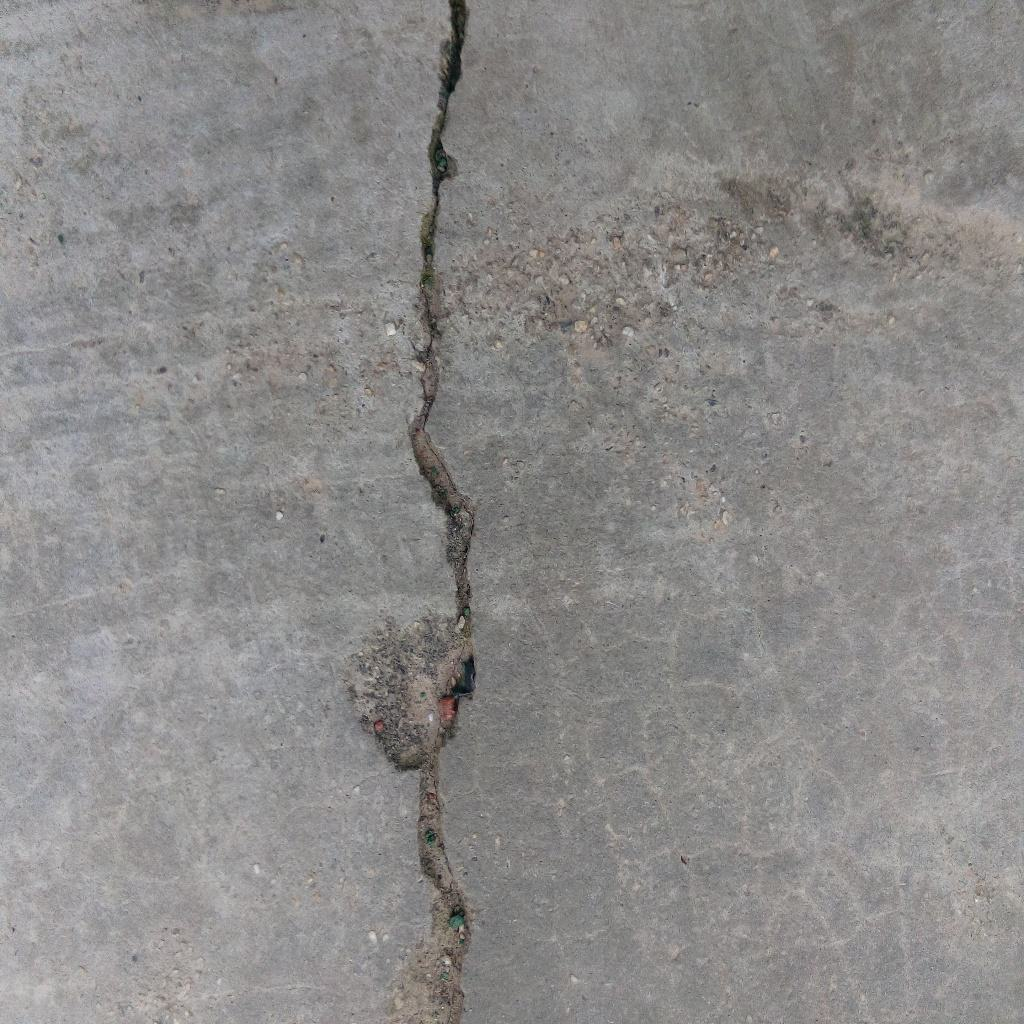Crack: (407, 1, 476, 616), (418, 770, 474, 1024)
Spalling: (346, 617, 475, 772)
